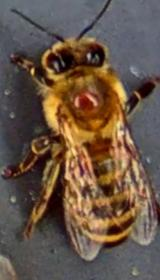varroa_mite: (64, 84, 106, 127)
